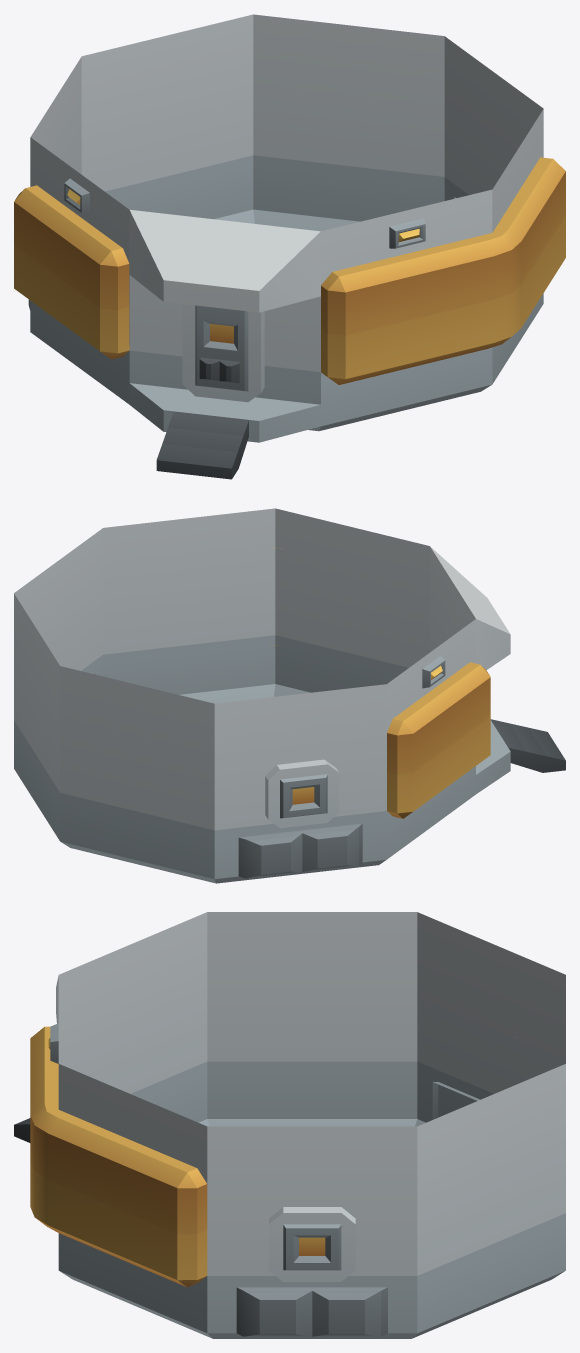
Rendered from giriskatison.glb.
3 views of the same model, one above another, from view 1: azimuth 30°, elevation 25°; view 2: azimuth 150°, elevation 25°; view 3: azimuth 270°, elevation 25° (orthographic). The views are drawn at different scales.
Visible parts, largest first — view 1: basemodule_A_Cylinder.2721; view 2: basemodule_A_Cylinder.2721; view 3: basemodule_A_Cylinder.2721.
Part boxes in pixels (box(x1,y1,x2,y2)): basemodule_A_Cylinder.2721: box(14, 14, 565, 479); basemodule_A_Cylinder.2721: box(14, 508, 565, 883); basemodule_A_Cylinder.2721: box(14, 912, 565, 1338).
Bounding box in the file's own units: 2.25 × 0.95 × 2.18.
Materials: 1 (1 with a texture image).
